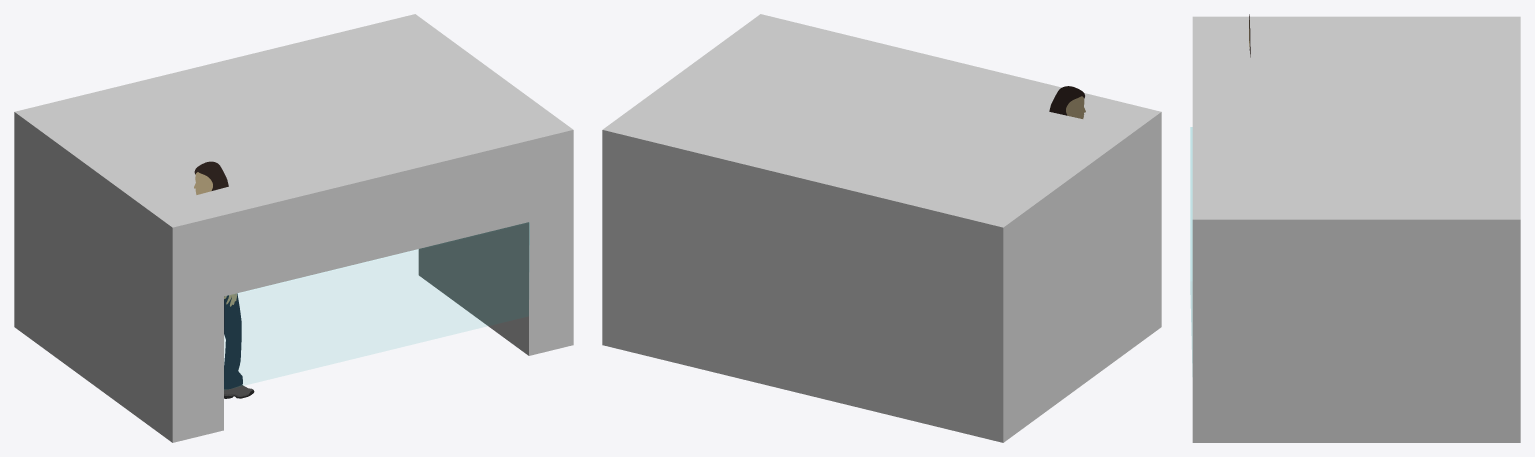
Rendered from hood 1.dae.
The picture shows the model from 3 angles, left to right: view 1: azimuth 30°, elevation 25°; view 2: azimuth 150°, elevation 25°; view 3: azimuth 270°, elevation 25°; orthographic projection. The views are drawn at different scales.
Visible parts, largest first — view 1: SketchUp, Susan (×2); view 2: SketchUp, Susan; view 3: SketchUp (×2).
Boxes of the visible parts, box(x1,y1,x2,y2) form: SketchUp: box(14, 14, 573, 442); Susan (×2): box(194, 161, 242, 389); SketchUp: box(602, 14, 1161, 442); Susan: box(1049, 86, 1084, 115); SketchUp (×2): box(1190, 16, 1520, 442).
Size of the model in its own units: 114 by 78.31 by 66.6.
